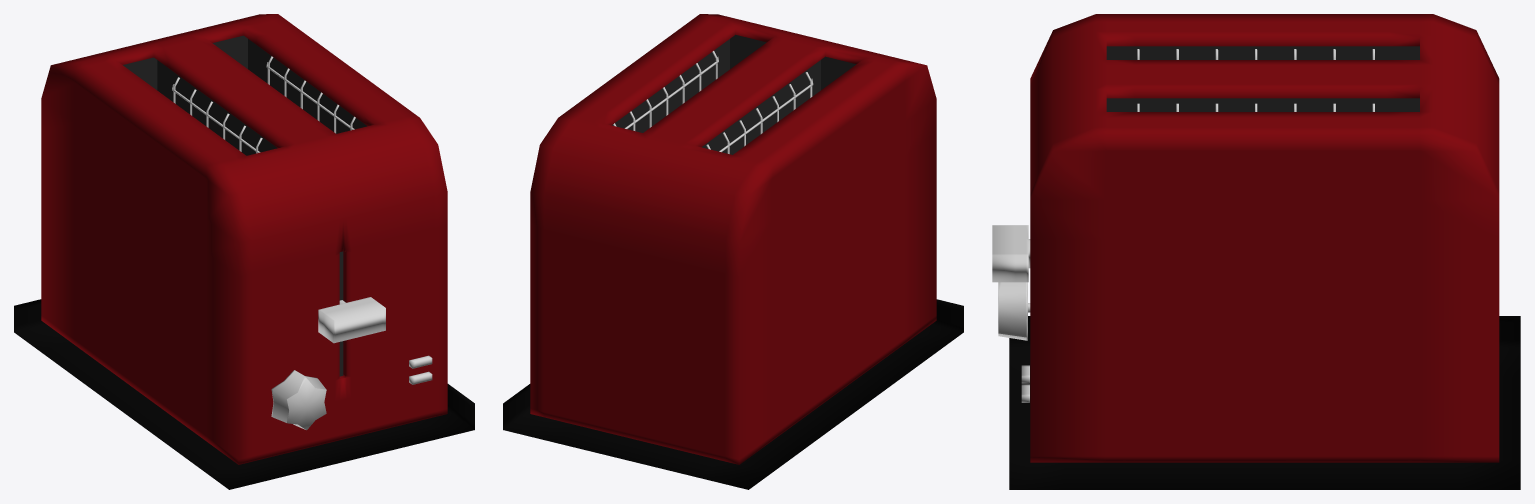
Rendered from Shiny Red Toaster.fbx.
3 views of the same model, side by side, from view 1: azimuth 30°, elevation 25°; view 2: azimuth 150°, elevation 25°; view 3: azimuth 270°, elevation 25° (orthographic). The views are drawn at different scales.
Visible parts, largest first — view 1: Shell, Interior, Dial, Handle, Grilles; view 2: Shell, Interior, Grilles; view 3: Shell, Interior, Handle, Dial.
Part boxes in pixels (box(x1,y1,x2,y2)): Shell: box(14, 14, 474, 489); Interior: box(123, 35, 367, 376); Dial: box(271, 370, 326, 430); Handle: box(318, 297, 385, 343); Grilles: box(172, 56, 355, 153); Shell: box(503, 14, 963, 489); Interior: box(612, 34, 856, 154); Grilles: box(613, 51, 813, 153); Shell: box(1009, 14, 1520, 489); Interior: box(1106, 46, 1419, 111); Handle: box(992, 225, 1030, 282); Dial: box(998, 282, 1030, 340).
Bounding box in the file's own units: 1.44 × 1.62 × 2.25.
